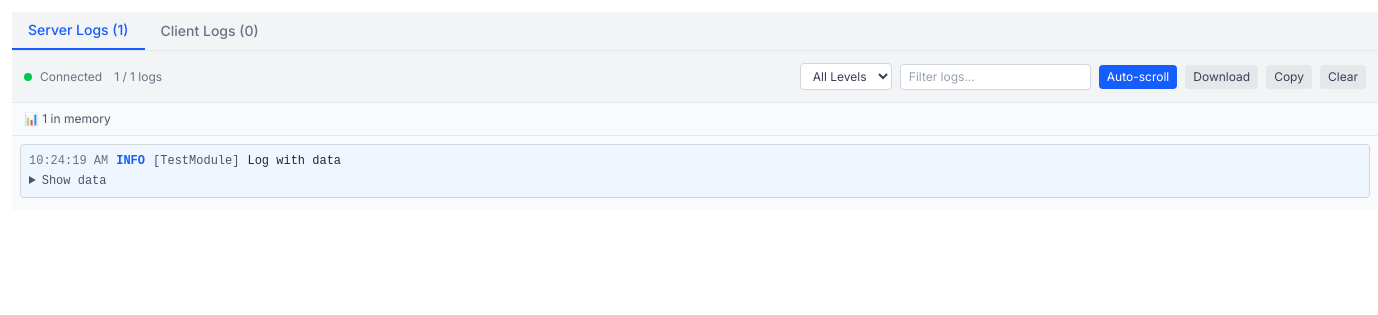
it: LogViewer Regression Tests › Display › data expansion (details element) toggles correctly
Expected: the text "\"key\": \"value\"" is not shown
Note: Click to expand
Click the heading "Show data" at (74, 181), box [42, 174, 106, 188]
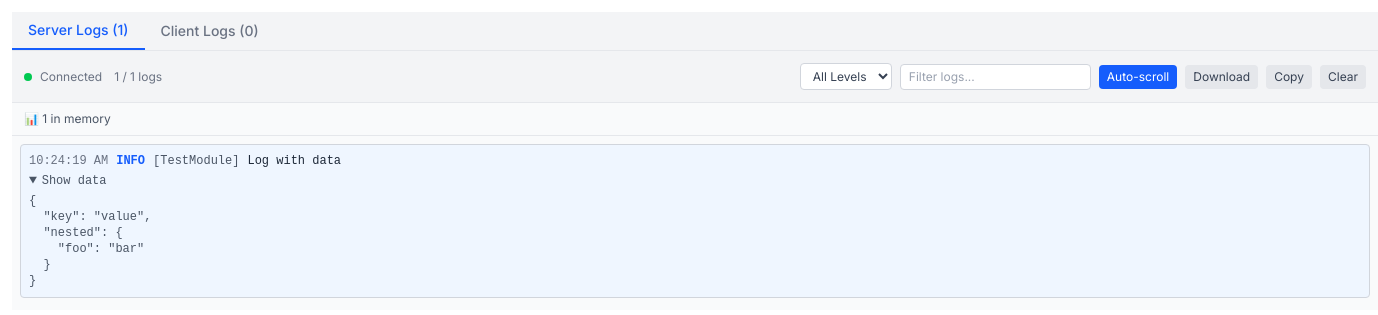
Expected: the text "{ \"key\": \"value\", \"nested\": { \"foo\": \"bar\" } }" is shown, [29, 194, 151, 288]
